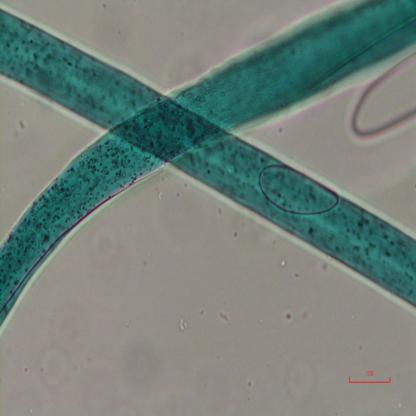Air bubble: (345, 56, 416, 144)
Background material: (86, 223, 123, 268), (26, 344, 63, 388), (278, 349, 311, 397), (3, 110, 34, 141), (180, 316, 196, 337), (271, 254, 288, 272), (218, 310, 234, 328), (288, 312, 294, 328)
Microfibre: (0, 0, 416, 328), (0, 8, 416, 309)
